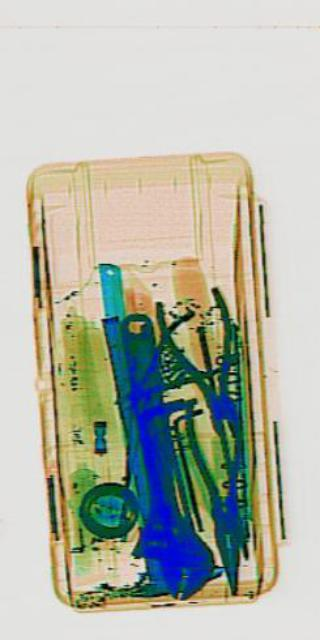Pliers: (150, 251, 254, 469), (183, 392, 259, 604)
Wrench: (91, 291, 215, 621)
